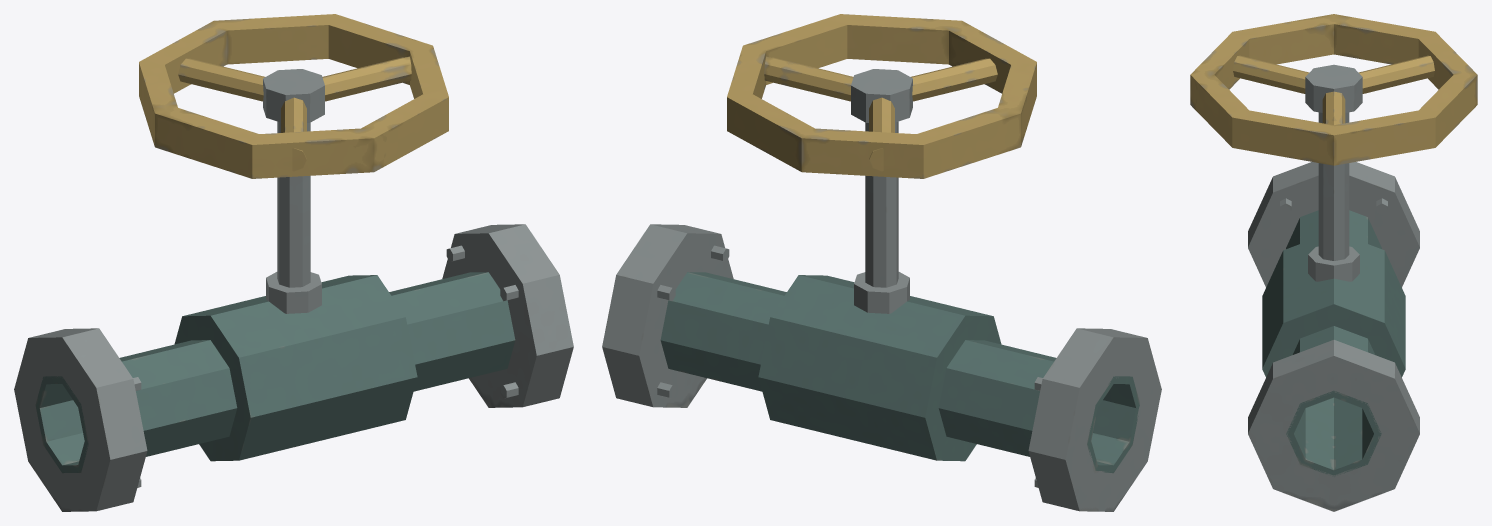
Rendered from bunker_pipe_valve_kit_wheel.glb.
The picture shows the model from 3 angles, left to right: view 1: azimuth 30°, elevation 25°; view 2: azimuth 150°, elevation 25°; view 3: azimuth 270°, elevation 25°; orthographic projection. The views are drawn at different scales.
Visible parts, largest first — view 1: PipeValve; view 2: PipeValve; view 3: PipeValve.
Part boxes in pixels (<box>): PipeValve: <box>14,14,573,511</box>; PipeValve: <box>602,14,1161,511</box>; PipeValve: <box>1190,14,1477,511</box>.
Size of what is drawn, in the model's own units: 0.5 by 0.3875 by 0.3.
1 material, 1 textured.
